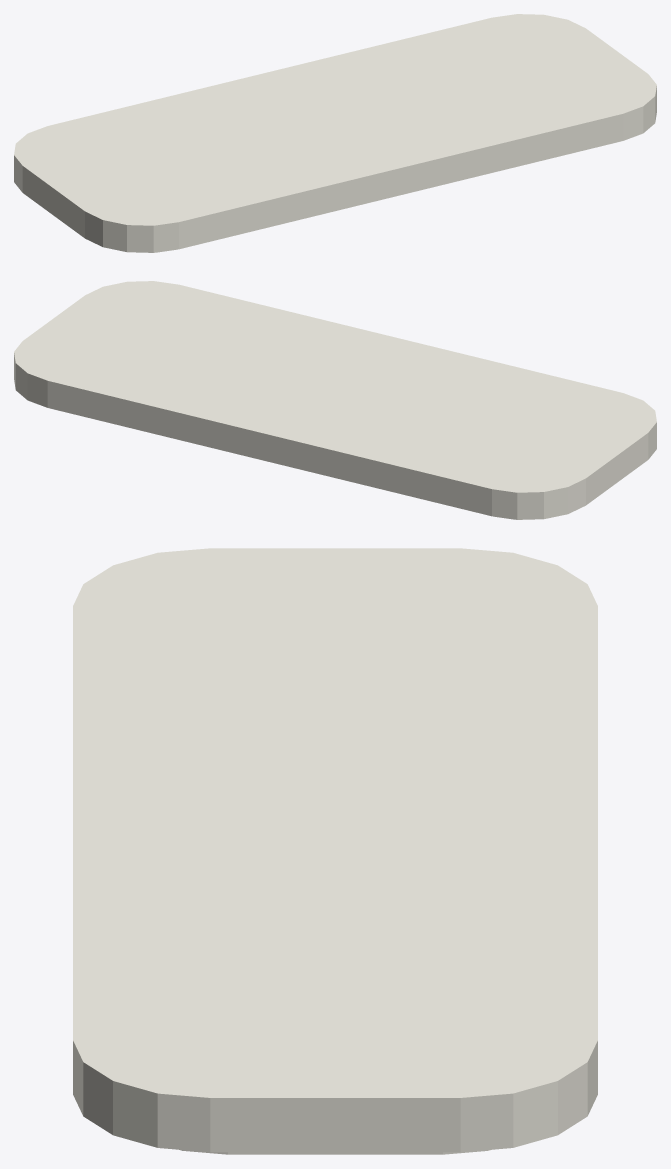
The model's file is reception_soffit.glb.
3 views of the same model, one above another, from view 1: azimuth 30°, elevation 25°; view 2: azimuth 150°, elevation 25°; view 3: azimuth 270°, elevation 25° (orthographic). The views are drawn at different scales.
Visible parts, largest first — view 1: Aero_reception_soffit; view 2: Aero_reception_soffit; view 3: Aero_reception_soffit.
Boxes of the visible parts, <box> form: Aero_reception_soffit: <box>14,14,656,252</box>; Aero_reception_soffit: <box>14,281,656,519</box>; Aero_reception_soffit: <box>73,548,597,1154</box>.
Size of the model in its own units: 5.2 by 0.34 by 2.1.
Materials: 3 (3 with a texture image).
